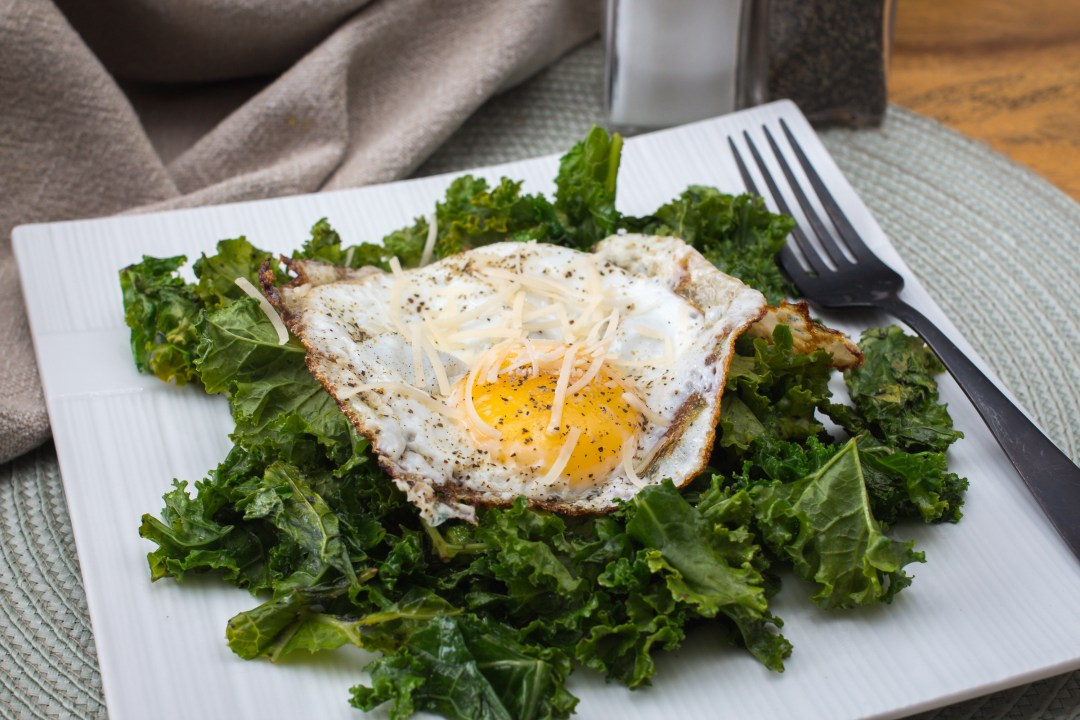chopped lettuce: (342, 549, 731, 654)
fried egg: (355, 265, 715, 470)
